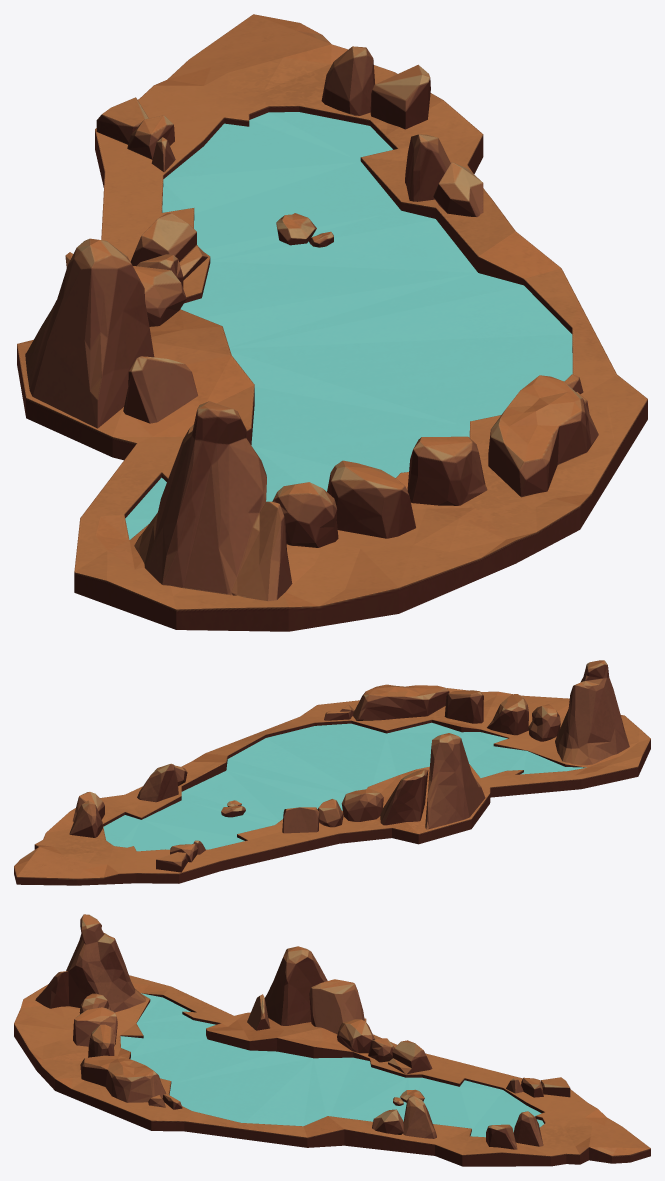
Rendered from low_poly_lake.fbx.
3 views of the same model, one above another, from view 1: azimuth 30°, elevation 25°; view 2: azimuth 150°, elevation 25°; view 3: azimuth 270°, elevation 25° (orthographic). The views are drawn at different scales.
Parts seen in each view (by area): view 1: lake.1_1; view 2: lake.1_1; view 3: lake.1_1.
Part boxes in pixels (bbox=[...]): lake.1_1: bbox=[17, 14, 647, 631]; lake.1_1: bbox=[14, 660, 650, 885]; lake.1_1: bbox=[14, 914, 650, 1166].
Size of the model in its own units: 0.0875 by 0.0204 by 0.1277.
Materials: 1 (1 with a texture image).
